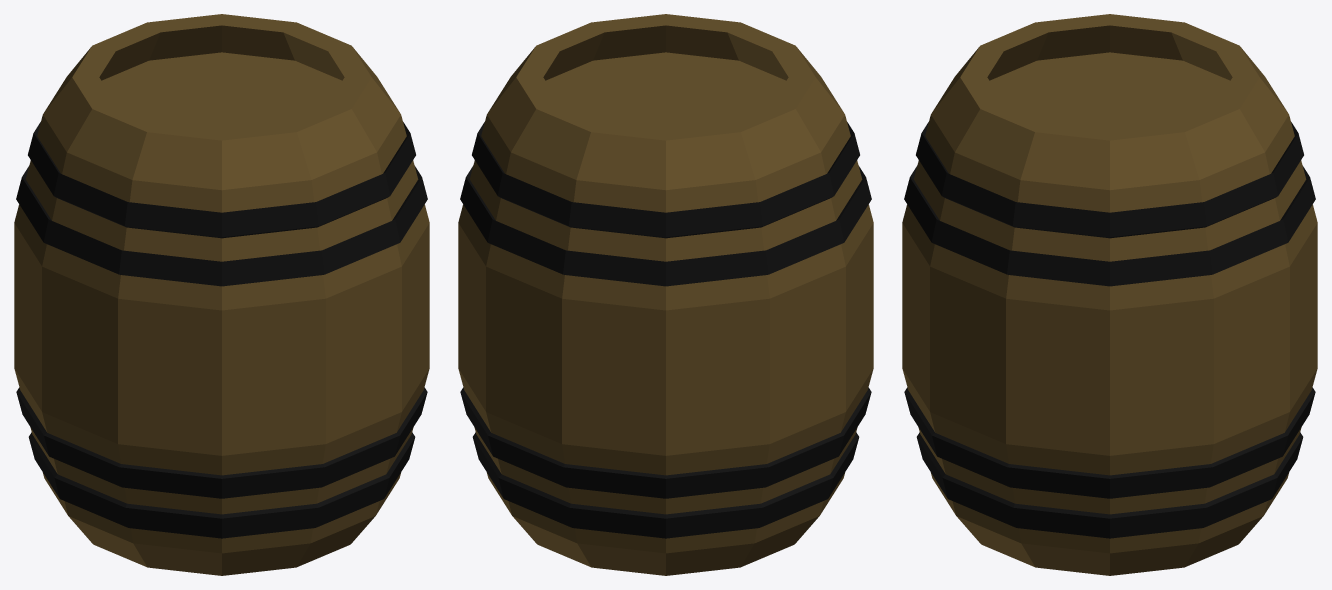
File: barrel.fbx
3 views of the same model, side by side, from view 1: azimuth 30°, elevation 25°; view 2: azimuth 150°, elevation 25°; view 3: azimuth 270°, elevation 25° (orthographic).
Parts seen in each view (by area): view 1: Cylinder; view 2: Cylinder; view 3: Cylinder.
Boxes of the visible parts, box(x1,y1,x2,y2) form: Cylinder: box(14, 14, 429, 575); Cylinder: box(458, 14, 873, 575); Cylinder: box(902, 14, 1317, 575).
Bounding box in the file's own units: 191 × 222 × 191.
